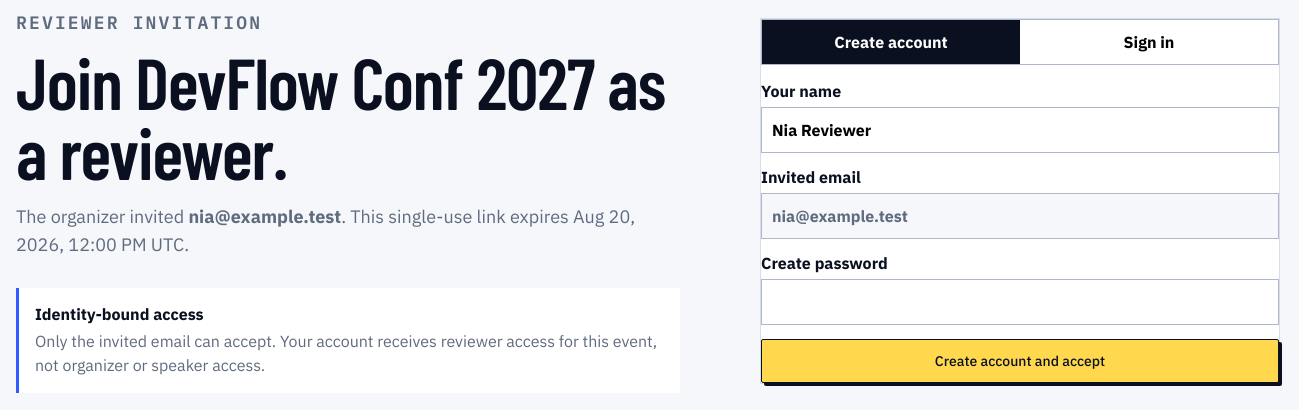
Test: ConfPilot Phase 0 shell › removes the invitation token from the address bar and creates reviewer-only access
This screenshot has width=1299, height=410.
Expected: the heading "Join DevFlow Conf 2027 as a reviewer." is shown, x1=16 y1=46 x2=680 y2=187
Expected: the field labelled "Invited email" holds "nia@example.test", x1=761 y1=193 x2=1279 y2=239
Type "secure-reviewer-pass-123" into the password field labelled "Create password".
click(1020, 302); type("secure-reviewer-pass-123")  # box x1=761 y1=279 x2=1279 y2=325
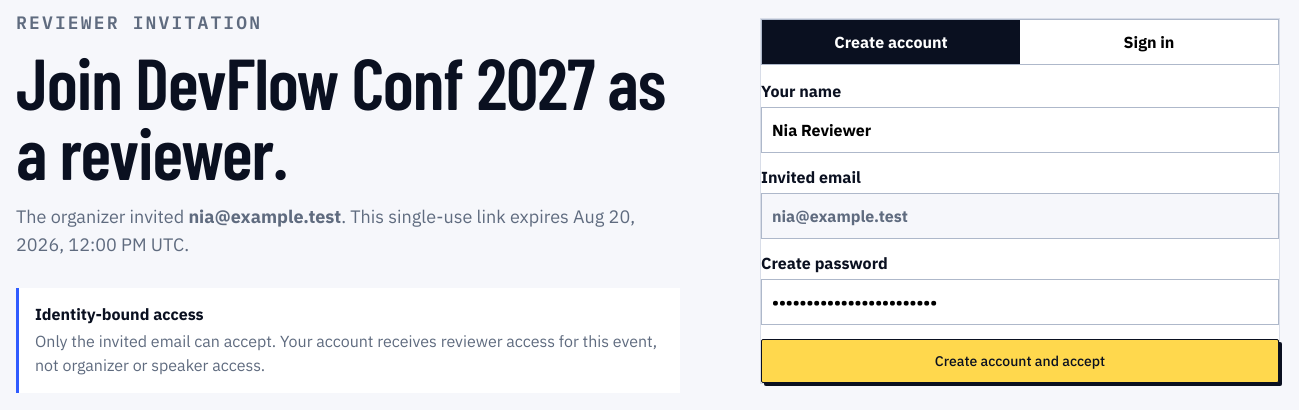
Click the button "Create account and accept".
click(1020, 361)  # box x1=761 y1=339 x2=1279 y2=383
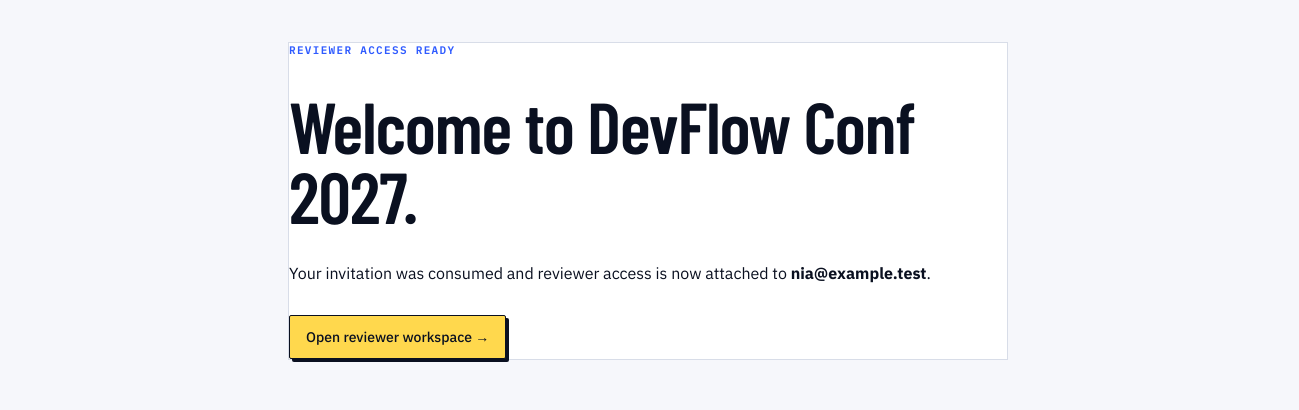
Expected: the heading "Welcome to DevFlow Conf 2027." is shown, x1=289 y1=90 x2=1007 y2=231
